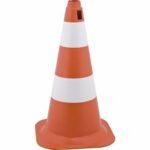traffic_cone: (34, 0, 116, 150)
